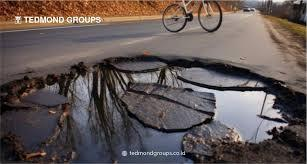Pothole: (0, 50, 302, 164)
